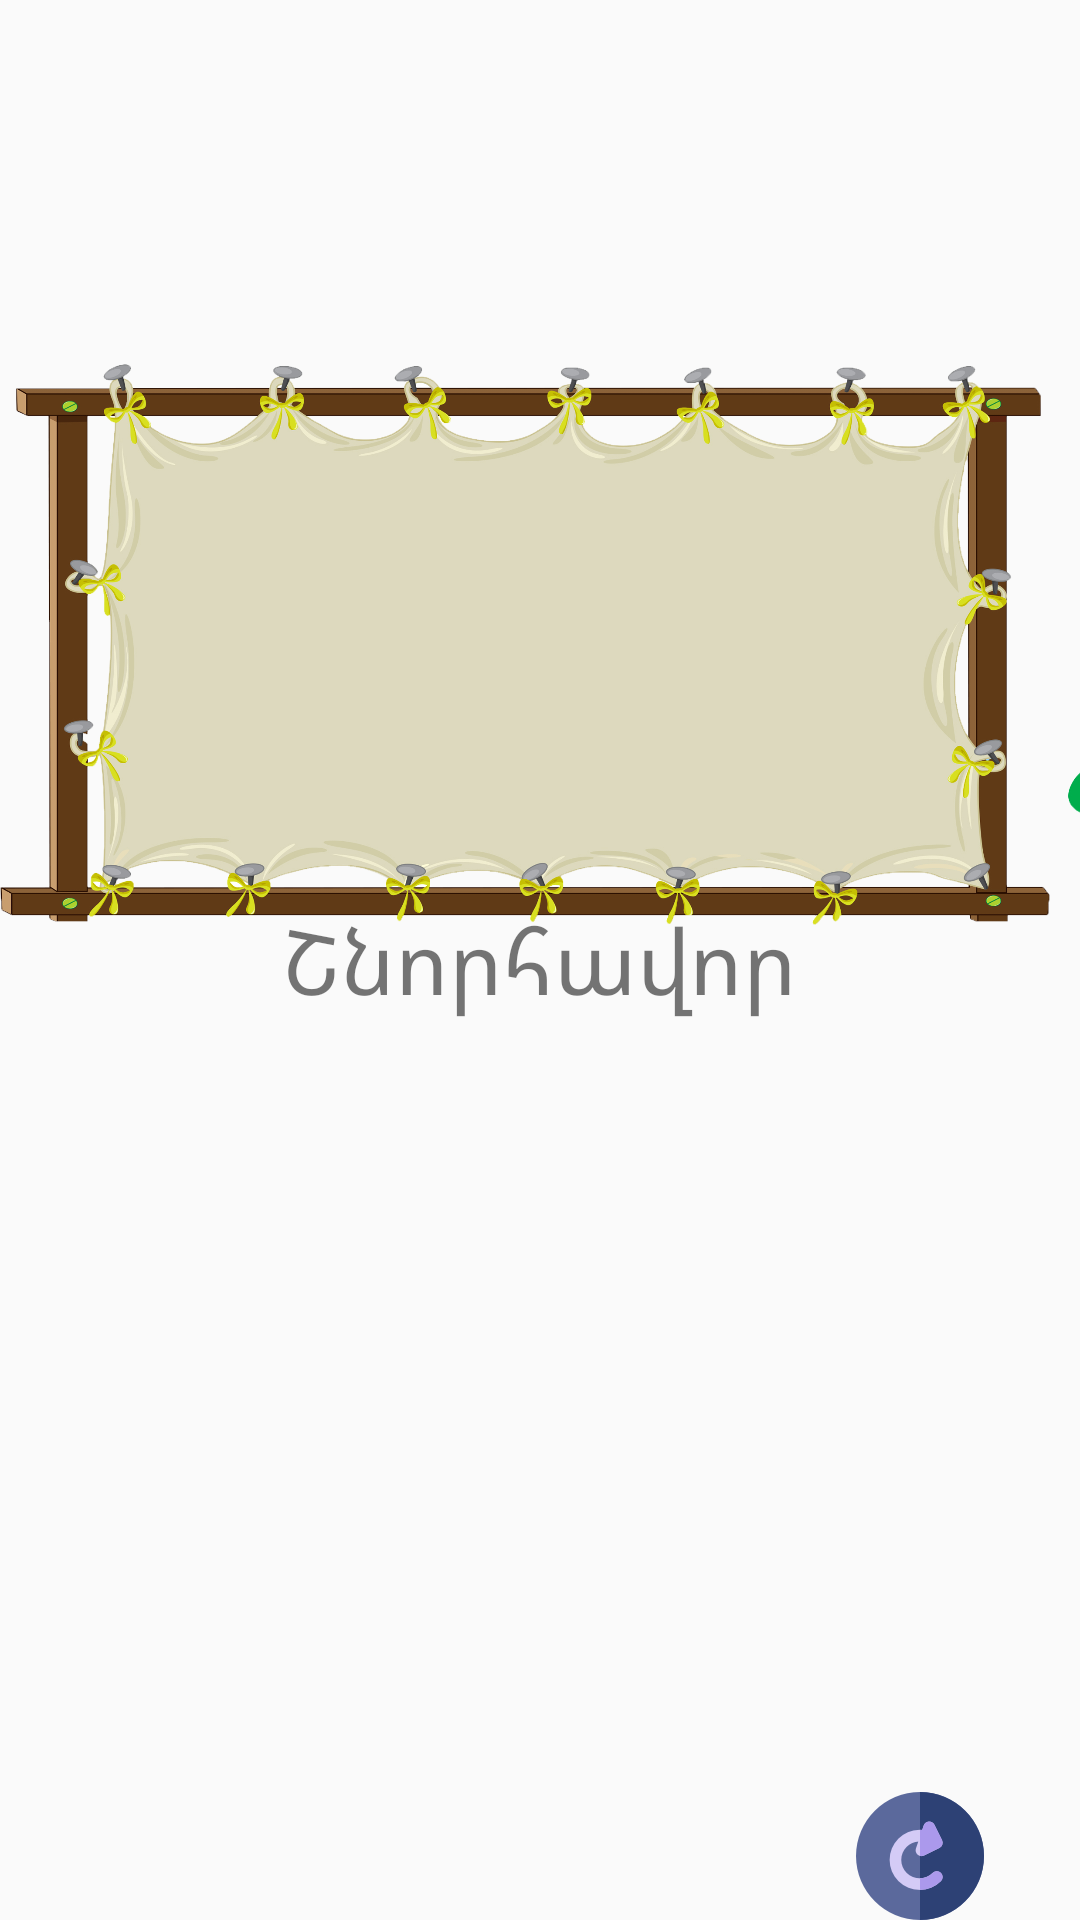

Where icons sit on this 1080w x 1920h app screen, as (left=x1, top=y1, right=x2, bottom=y2):
replay: (left=856, top=1792, right=984, bottom=1920)
